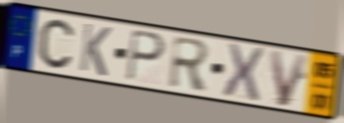C: (37, 17, 75, 71)
K: (77, 21, 114, 79)
P: (125, 27, 168, 83)
R: (167, 34, 212, 93)
V: (267, 48, 311, 110)
X: (221, 41, 266, 103)
